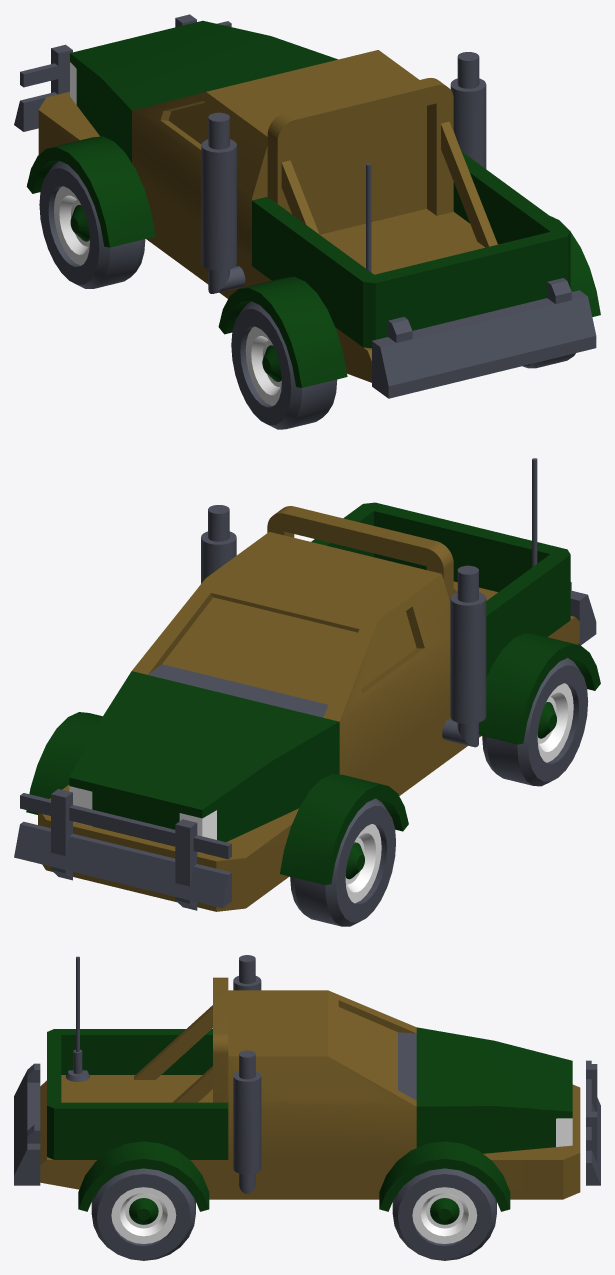
File: truck.model.fbx
3 views of the same model, one above another, from view 1: azimuth 30°, elevation 25°; view 2: azimuth 150°, elevation 25°; view 3: azimuth 270°, elevation 25° (orthographic). The views are drawn at different scales.
Visible parts, largest first — view 1: windshield_default_16, trunk_bed_14, hood_truck_26, detail_bumper_19, detail_rollbar_18, wheel_colored_6, wheel_colored_5, detail_fender_10, detail_fender_9, detail_exhaustVertical_30, detail_exhaustVertical_32, detail_bullbar_20 (+2 smaller); view 2: windshield_default_16, hood_truck_26, trunk_bed_14, detail_bullbar_20, wheel_colored_6, wheel_colored_5, detail_fender_9, detail_fender_10, detail_exhaustVertical_30, detail_rollbar_18, detail_fender_12, detail_exhaustVertical_32 (+2 smaller); view 3: windshield_default_16, trunk_bed_14, hood_truck_26, wheel_colored_7, wheel_colored_8, detail_rollbar_18, detail_fender_11, detail_fender_12, detail_exhaustVertical_32, detail_bumper_19, detail_bullbar_20, detail_antenna_29 (+1 smaller).
Boxes of the visible parts, x1,y1,x2,y2 form: windshield_default_16: [132, 50, 455, 298]; trunk_bed_14: [252, 151, 570, 382]; hood_truck_26: [38, 20, 337, 162]; detail_bumper_19: [372, 278, 596, 398]; detail_rollbar_18: [267, 78, 497, 247]; wheel_colored_6: [231, 301, 337, 429]; wheel_colored_5: [39, 161, 145, 288]; detail_fender_10: [218, 276, 347, 387]; detail_fender_9: [26, 136, 155, 247]; detail_exhaustVertical_30: [201, 112, 245, 293]; detail_exhaustVertical_32: [450, 52, 486, 168]; detail_bullbar_20: [14, 14, 231, 131]; windshield_default_16: [132, 532, 459, 795]; hood_truck_26: [38, 671, 339, 911]; trunk_bed_14: [311, 502, 579, 751]; detail_bullbar_20: [14, 789, 231, 910]; wheel_colored_6: [482, 658, 588, 786]; wheel_colored_5: [290, 798, 395, 926]; detail_fender_9: [280, 774, 408, 885]; detail_fender_10: [479, 633, 600, 744]; detail_exhaustVertical_30: [442, 565, 486, 747]; detail_rollbar_18: [267, 506, 457, 601]; detail_fender_12: [26, 712, 102, 814]; detail_exhaustVertical_32: [201, 505, 236, 583]; windshield_default_16: [228, 990, 416, 1199]; trunk_bed_14: [40, 1029, 228, 1199]; hood_truck_26: [416, 1027, 580, 1199]; wheel_colored_7: [91, 1168, 195, 1260]; wheel_colored_8: [392, 1168, 496, 1260]; detail_rollbar_18: [134, 977, 228, 1102]; detail_fender_11: [78, 1141, 209, 1211]; detail_fender_12: [379, 1141, 510, 1211]; detail_exhaustVertical_32: [233, 1050, 261, 1193]; detail_bumper_19: [14, 1063, 40, 1185]; detail_bullbar_20: [586, 1060, 600, 1185]; detail_antenna_29: [66, 956, 89, 1081].
Bounding box in the file's own units: 14.4 × 12.77 × 31.2.
